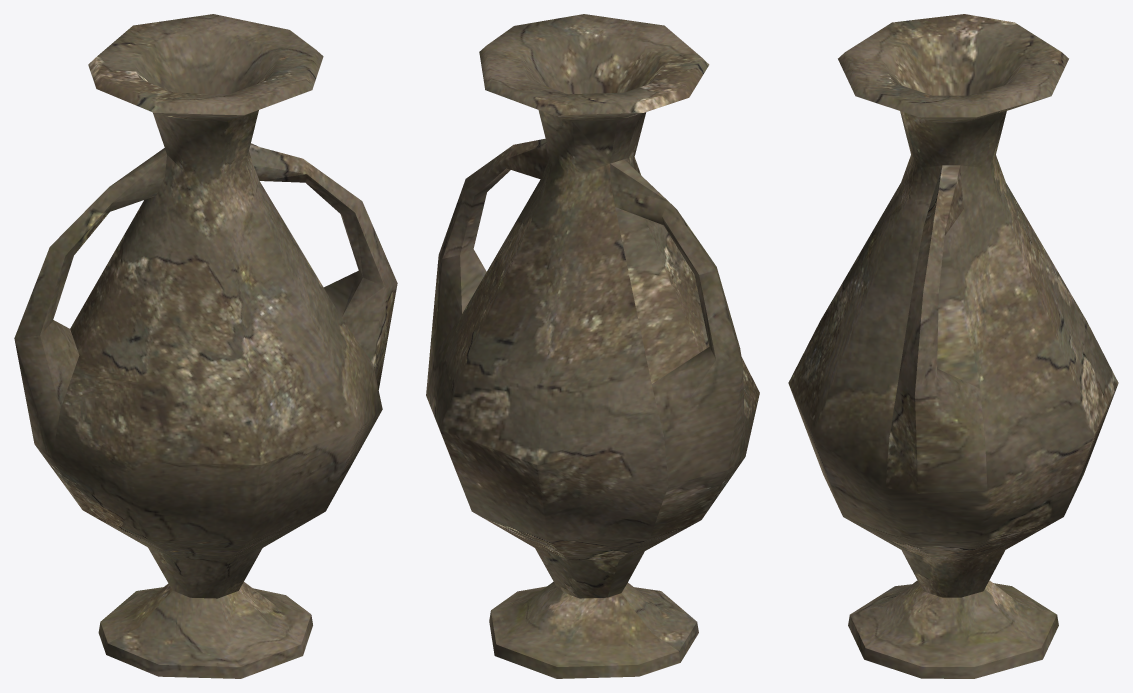
Rendered from amphora_lod.fbx.
3 views of the same model, side by side, from view 1: azimuth 30°, elevation 25°; view 2: azimuth 150°, elevation 25°; view 3: azimuth 270°, elevation 25° (orthographic).
Parts seen in each view (by area): view 1: Mesh Object; view 2: Mesh Object; view 3: Mesh Object.
Part boxes in pixels (x1,y1,x2,y2): Mesh Object: [14, 14, 397, 678]; Mesh Object: [426, 14, 759, 678]; Mesh Object: [788, 14, 1118, 678].
Size of the model in its own units: 0.4938 by 0.7889 by 0.4122.
